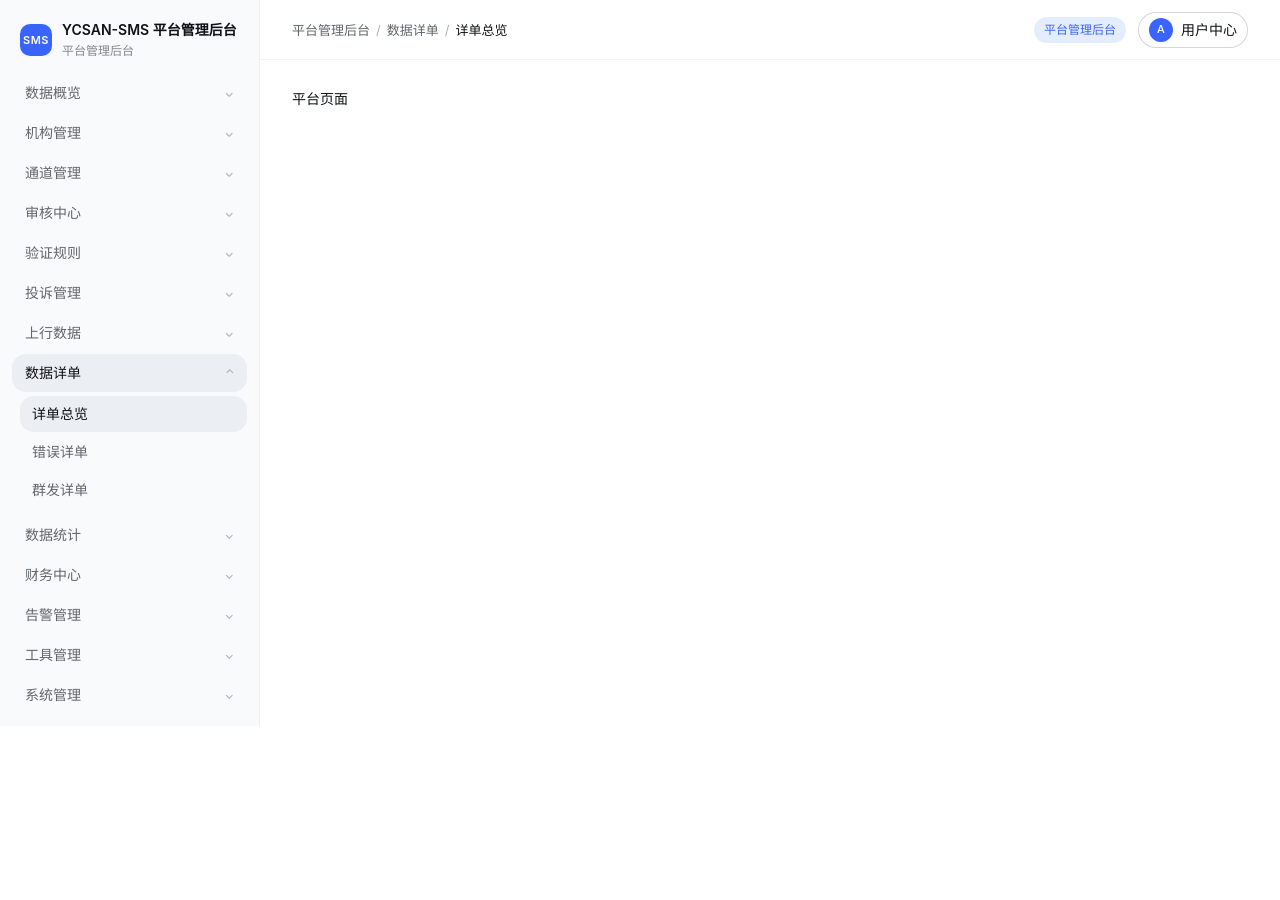
Admin and Tenant sidebar integration › groups the consolidated Admin detail page and removes duplicate detail links
What coordinates should you click on to do the following:
click the button with test id "admin-console-navigation-review-center-group-toggle"
I would click on:
 (130, 213)
Its box is [12, 194, 247, 232].
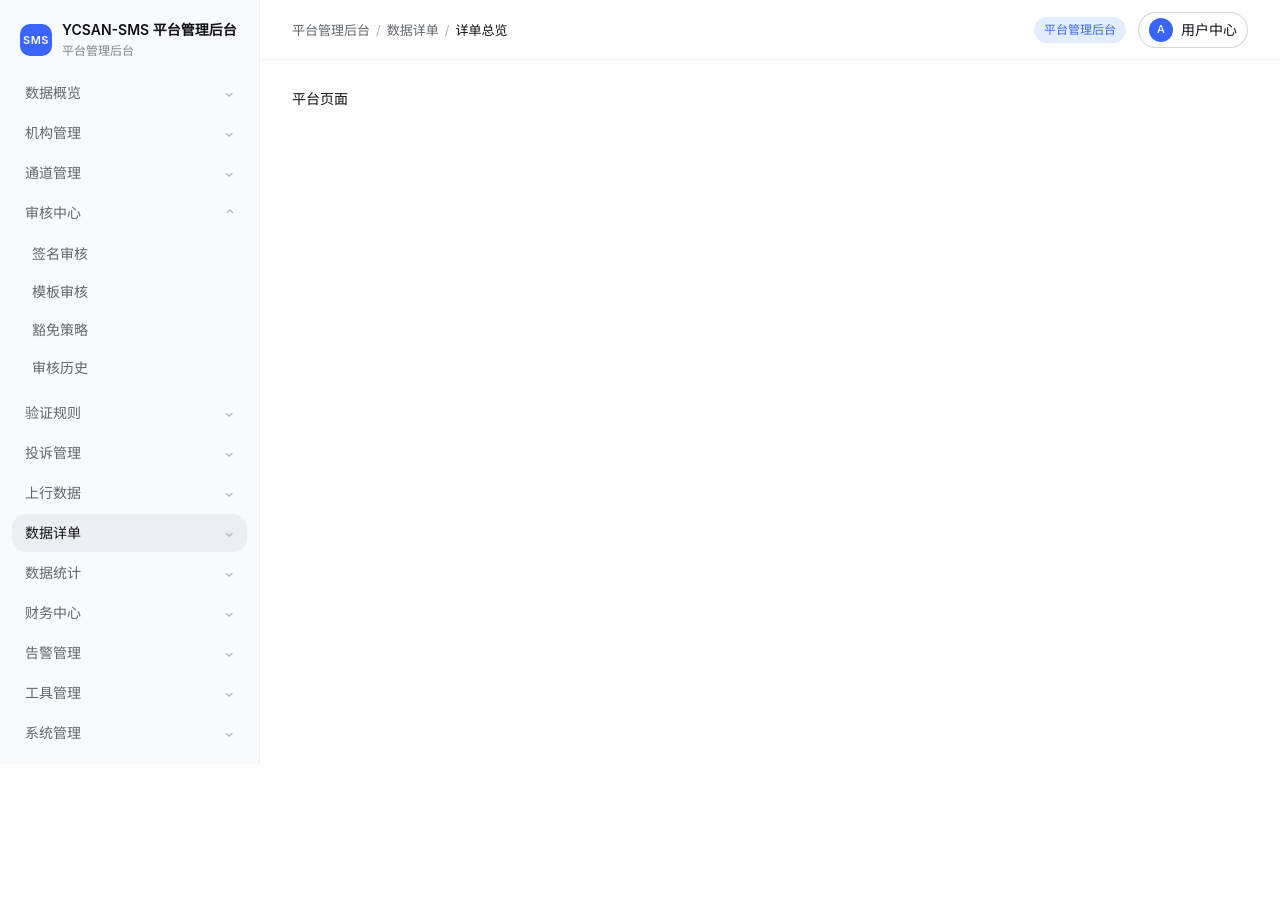
Expected: the button with test id "admin-console-navigation-message-details-group-toggle" is collapsed, [12, 514, 247, 552]
